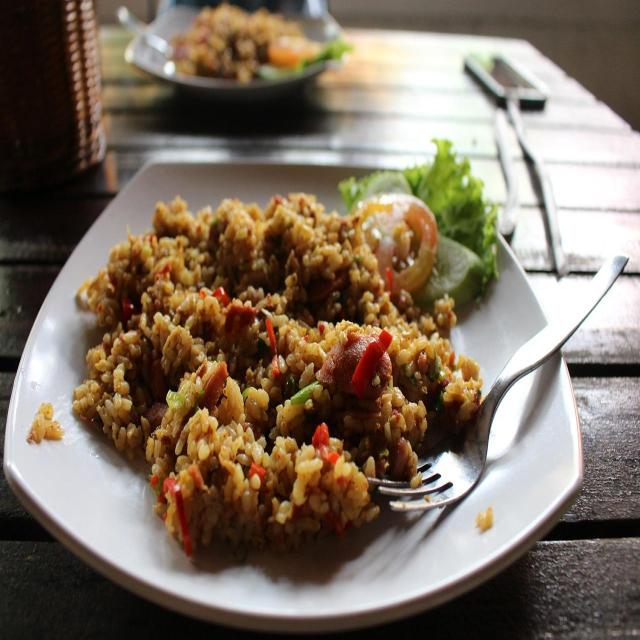Nasi Goreng: (72, 186, 484, 558)
